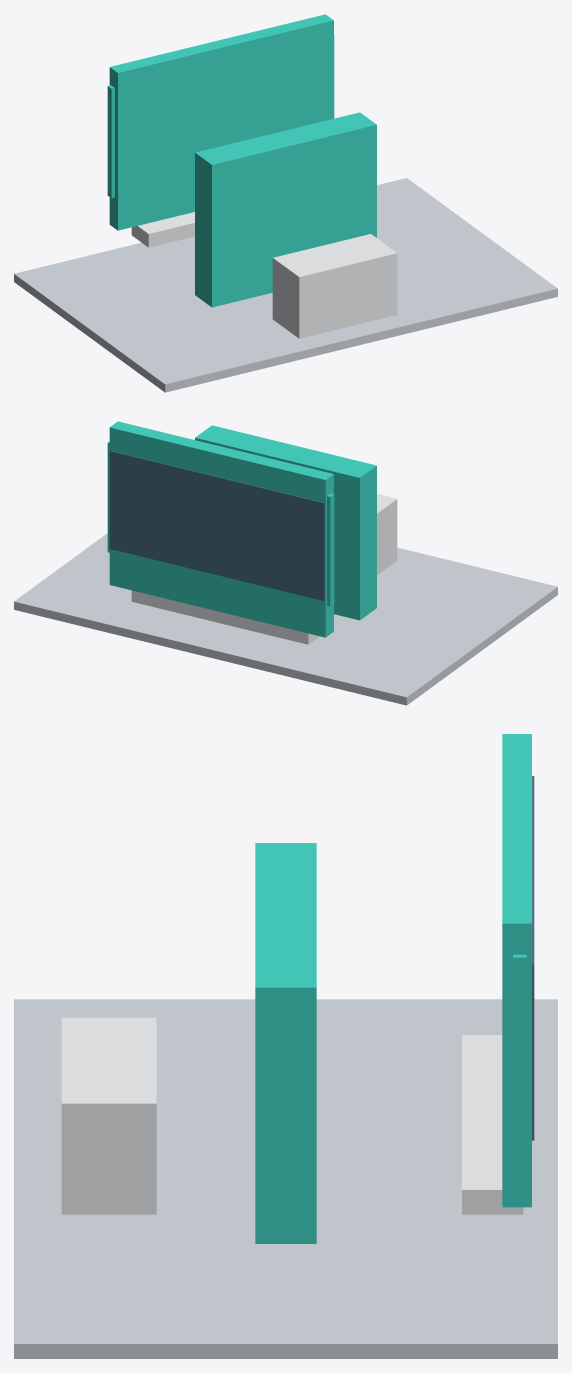
3 views of the same model, one above another, from view 1: azimuth 30°, elevation 25°; view 2: azimuth 150°, elevation 25°; view 3: azimuth 270°, elevation 25° (orthographic). The views are drawn at different scales.
Visible parts, largest first — view 1: Exhibition Booth Concept; view 2: Exhibition Booth Concept; view 3: Exhibition Booth Concept.
Boxes of the visible parts, x1,y1,x2,y2 form: Exhibition Booth Concept: (14, 14, 557, 392); Exhibition Booth Concept: (14, 421, 557, 705); Exhibition Booth Concept: (14, 734, 557, 1358).
Bounding box in the file's own units: 6 × 2.9 × 4.
